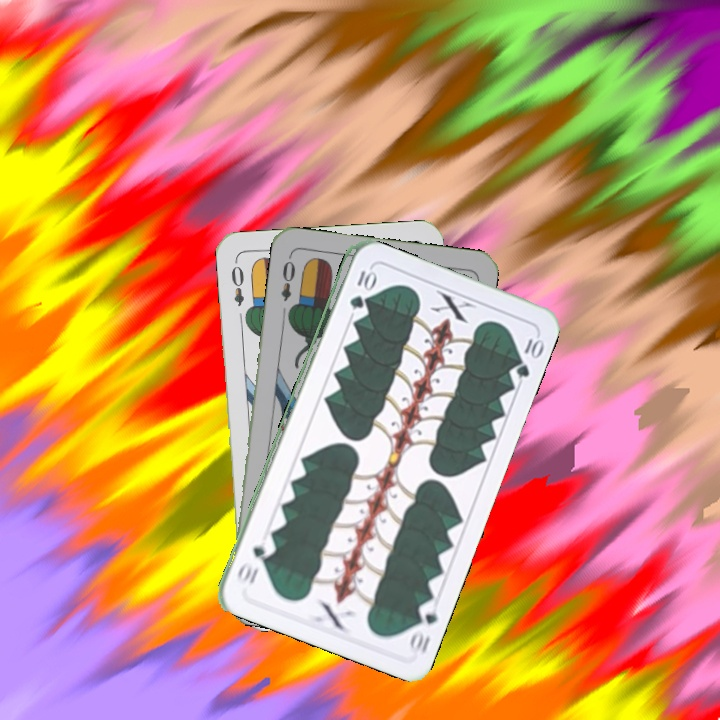EO: (276, 251, 298, 304), (227, 262, 247, 309)
G10: (405, 597, 440, 655), (345, 265, 375, 313)
